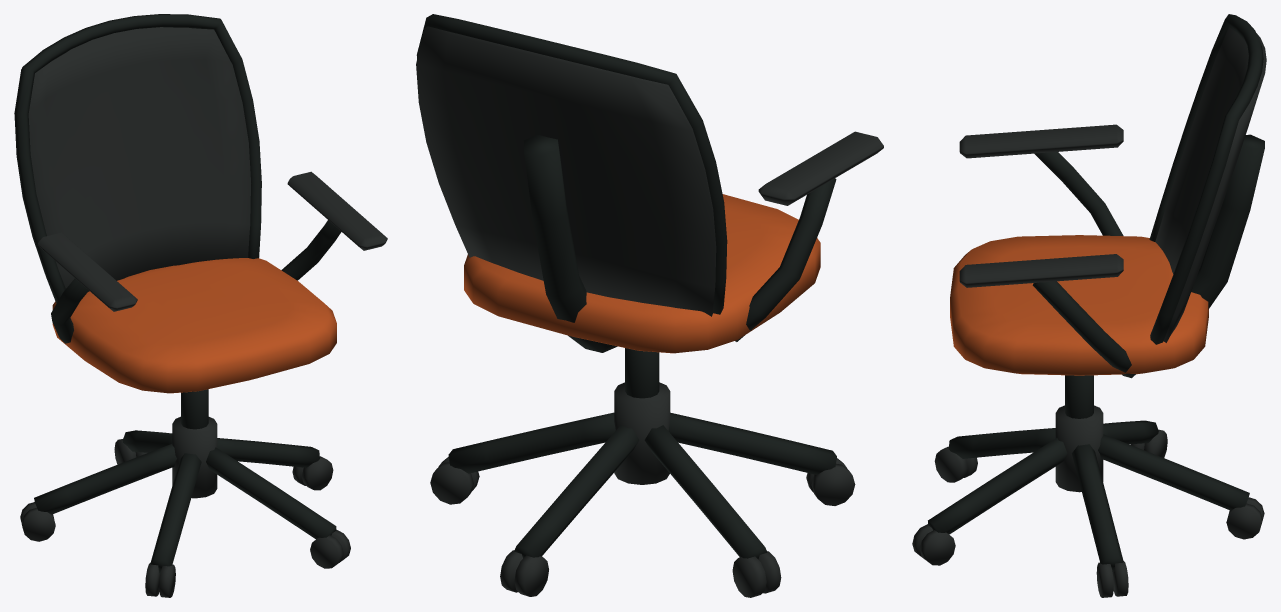
3 renders of one model, left to right at view 1: azimuth 30°, elevation 25°; view 2: azimuth 150°, elevation 25°; view 3: azimuth 270°, elevation 25°, orthographic. The views are drawn at different scales.
Visible parts, largest first — view 1: Black contoured office chair back shell, Orange upholstered office seat, Molded outer back rim; view 2: Black contoured office chair back shell, Molded outer back rim, Orange upholstered office seat; view 3: Molded outer back rim, Black contoured office chair back shell, Orange upholstered office seat.
Part boxes in pixels (x1,y1,x2,y2): Black contoured office chair back shell: (14, 27, 387, 597); Orange upholstered office seat: (52, 258, 336, 393); Molded outer back rim: (14, 14, 341, 573); Black contoured office chair back shell: (416, 26, 883, 597); Molded outer back rim: (416, 14, 836, 559); Orange upholstered office seat: (464, 194, 820, 353); Molded outer back rim: (928, 14, 1264, 571); Black contoured office chair back shell: (912, 27, 1266, 597); Orange upholstered office seat: (950, 235, 1208, 375).
Bounding box in the file's own units: 0.6626 × 0.9733 × 0.6576.
